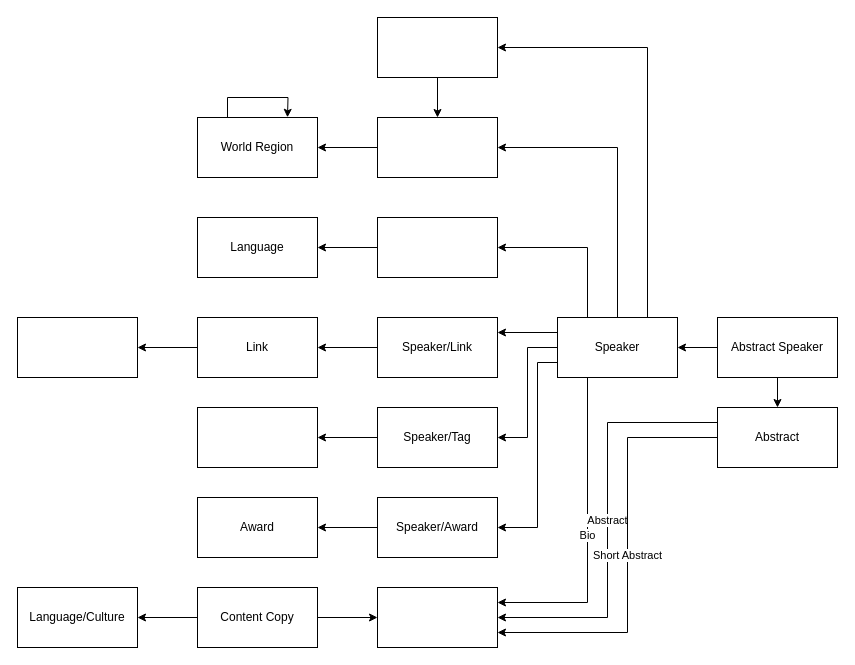
Some shapes in this 855 by 665 pixel diagram are drawn without their labels. Here are the shapes that lost their labels. From the top down, the box of each, then its label:
(376, 16, 498, 78): Country Division
(376, 116, 498, 178): Country
(376, 216, 498, 278): Speaker Language
(16, 316, 138, 378): Link Provider
(196, 406, 318, 468): Tag
(376, 586, 498, 648): Content
